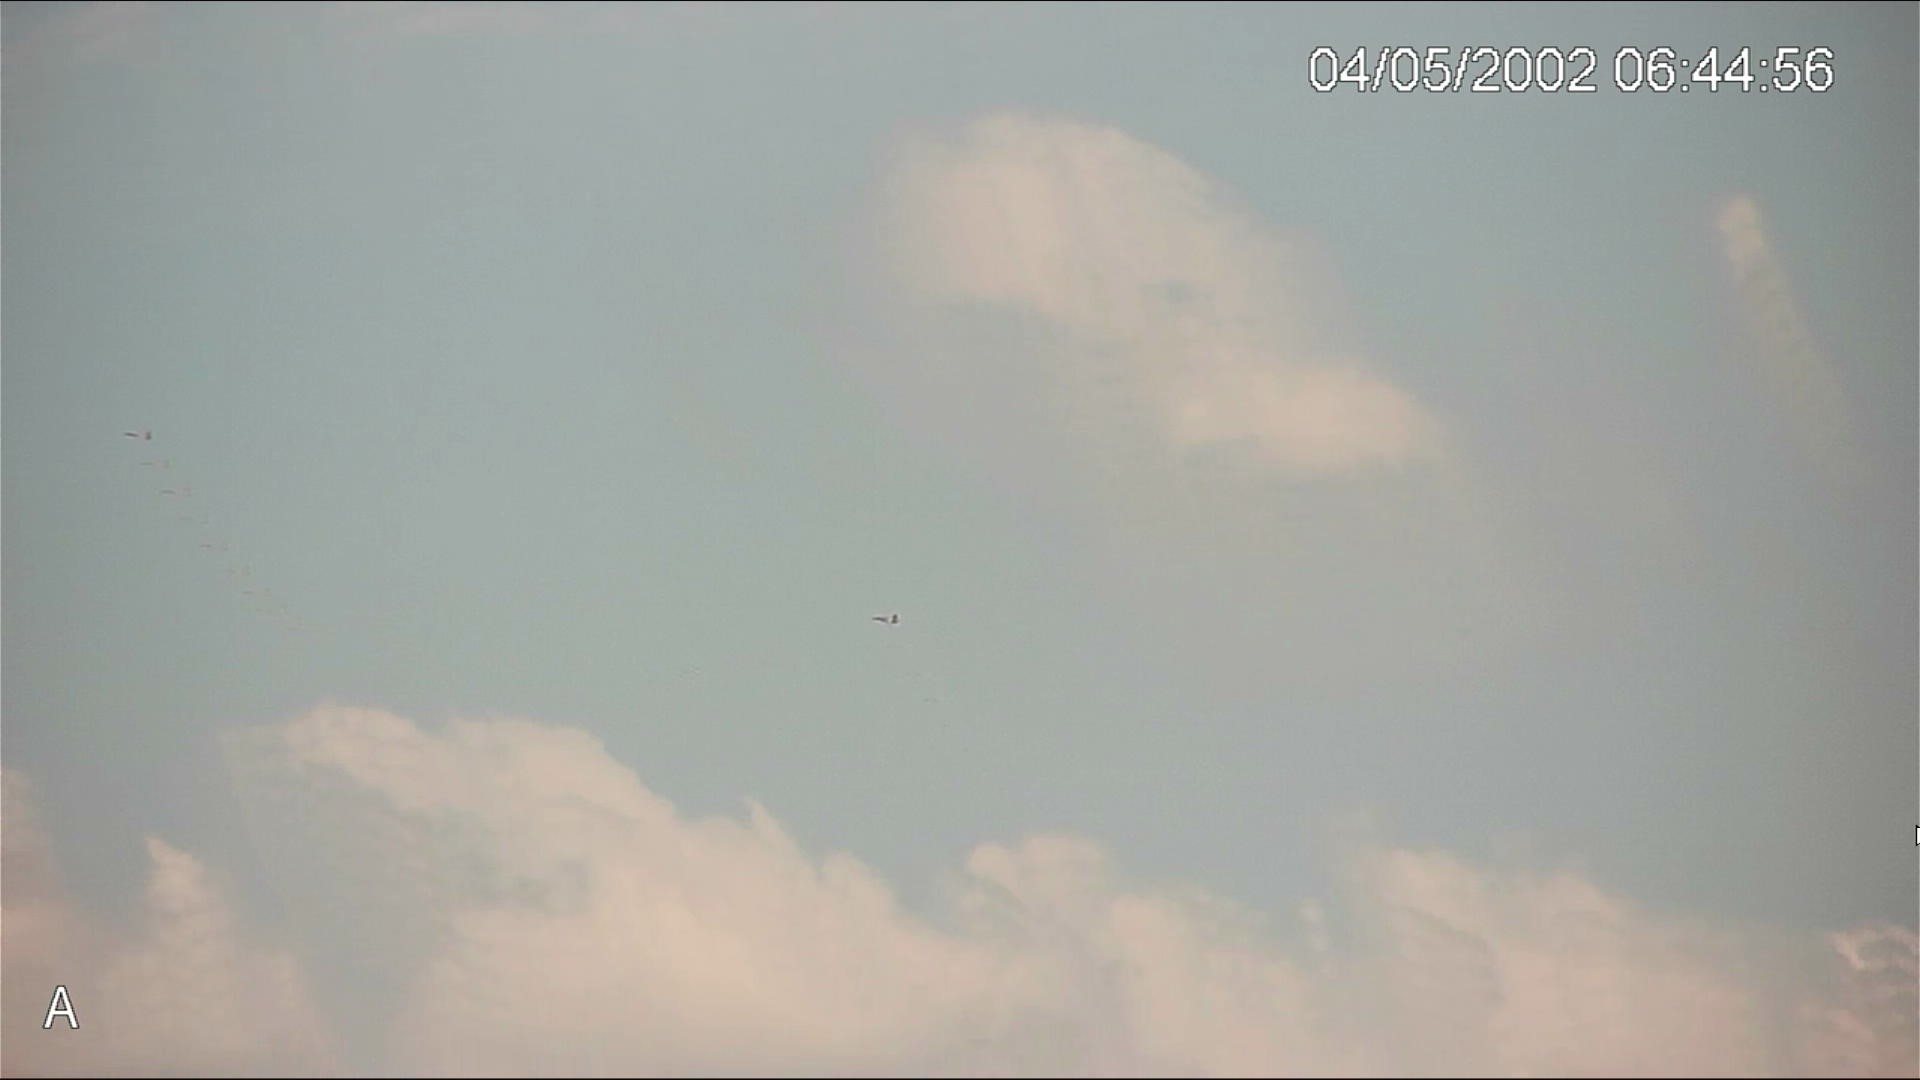SU_30: (125, 426, 154, 444), (872, 613, 902, 626)
